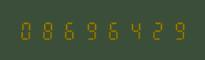eight: (38, 20, 58, 40)
four: (122, 20, 142, 40)
nine: (80, 20, 100, 40), (164, 20, 184, 40)
six: (59, 20, 79, 40), (101, 20, 121, 40)
two: (143, 20, 163, 40)
zero: (17, 20, 37, 40)
